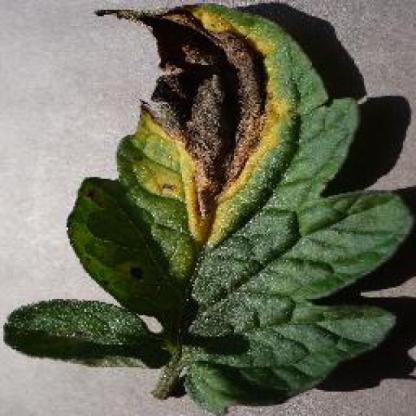Tomato_Blight: (5, 8, 411, 409)
